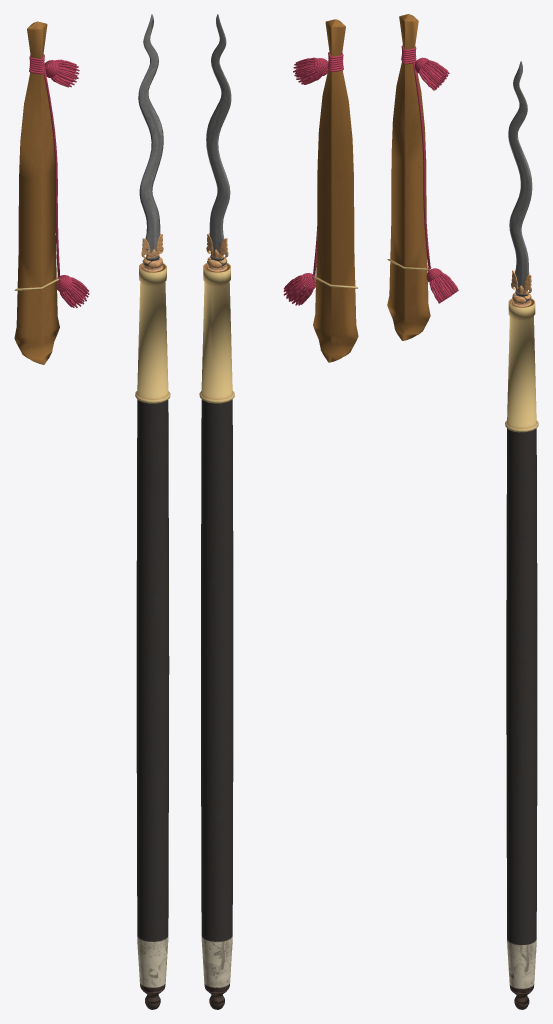
The model's file is mkn02_low.glb.
The picture shows the model from 3 angles, left to right: view 1: azimuth 30°, elevation 25°; view 2: azimuth 150°, elevation 25°; view 3: azimuth 330°, elevation 25°; orthographic projection. The views are drawn at different scales.
Visible parts, largest first — view 1: mkn02_KyaiDjimat; view 2: mkn02_KyaiDjimat; view 3: mkn02_KyaiDjimat.
Boxes of the visible parts, x1=… form: mkn02_KyaiDjimat: x1=14, y1=14, x2=170, y2=1009; mkn02_KyaiDjimat: x1=199, y1=14, x2=358, y2=1009; mkn02_KyaiDjimat: x1=387, y1=14, x2=538, y2=1009.
Size of the model in its own units: 0.3713 by 2.32 by 0.0742.
Materials: 3 (3 with a texture image).
